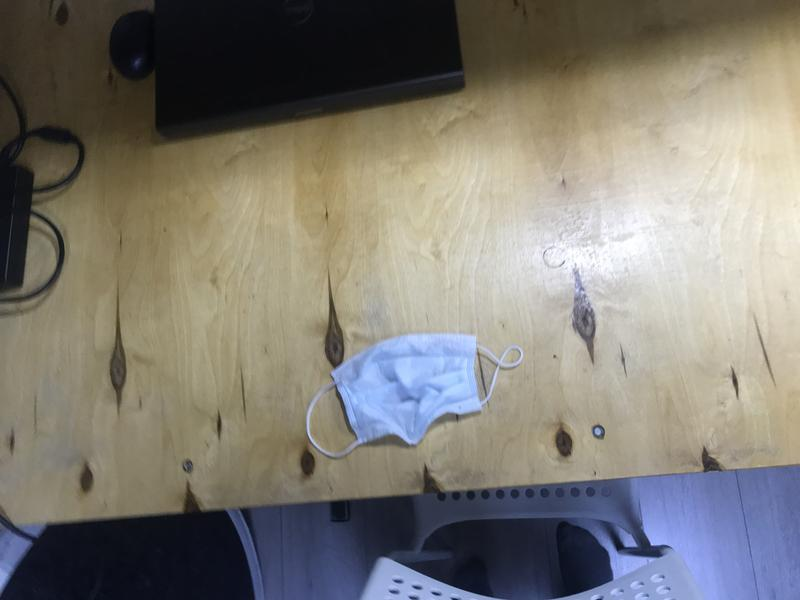medical_mask: (305, 333, 524, 459)
